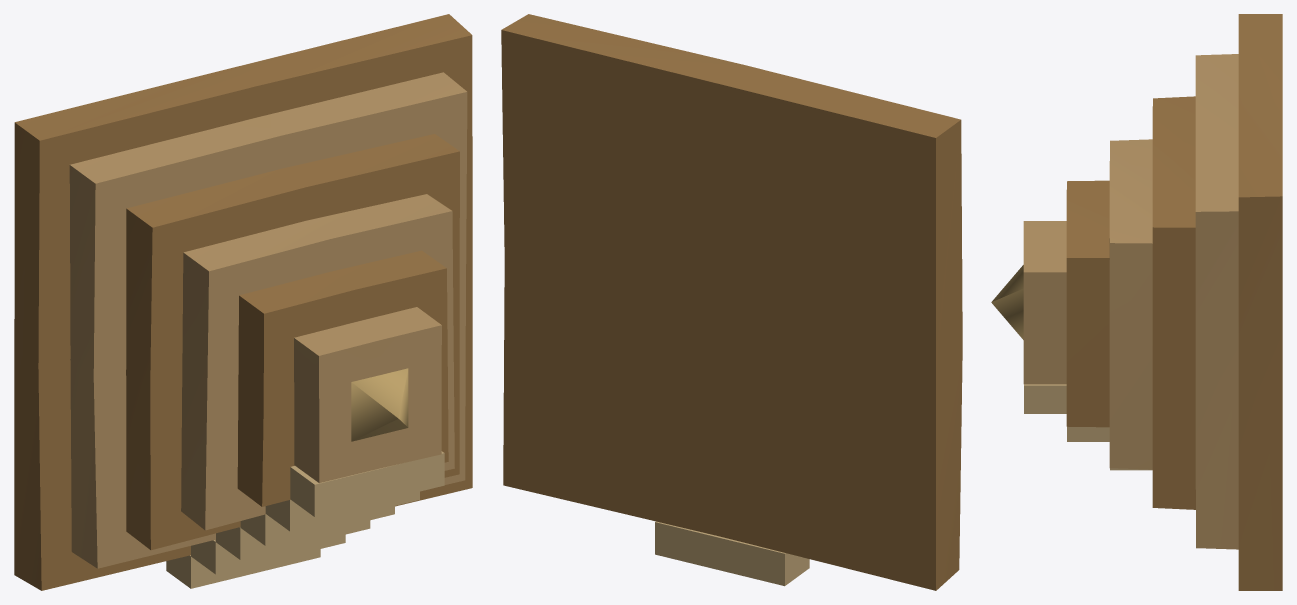
3 renders of one model, left to right at view 1: azimuth 30°, elevation 25°; view 2: azimuth 150°, elevation 25°; view 3: azimuth 270°, elevation 25°, orthographic. The views are drawn at different scales.
Parts seen in each view (by area): view 1: PyramidMesh; view 2: PyramidMesh; view 3: PyramidMesh.
Part boxes in pixels (bbox=[...]): PyramidMesh: bbox=[14, 14, 472, 590]; PyramidMesh: bbox=[501, 14, 962, 590]; PyramidMesh: bbox=[991, 14, 1282, 590].
Bounding box in the file's own units: 1 × 1.07 × 0.6667.
